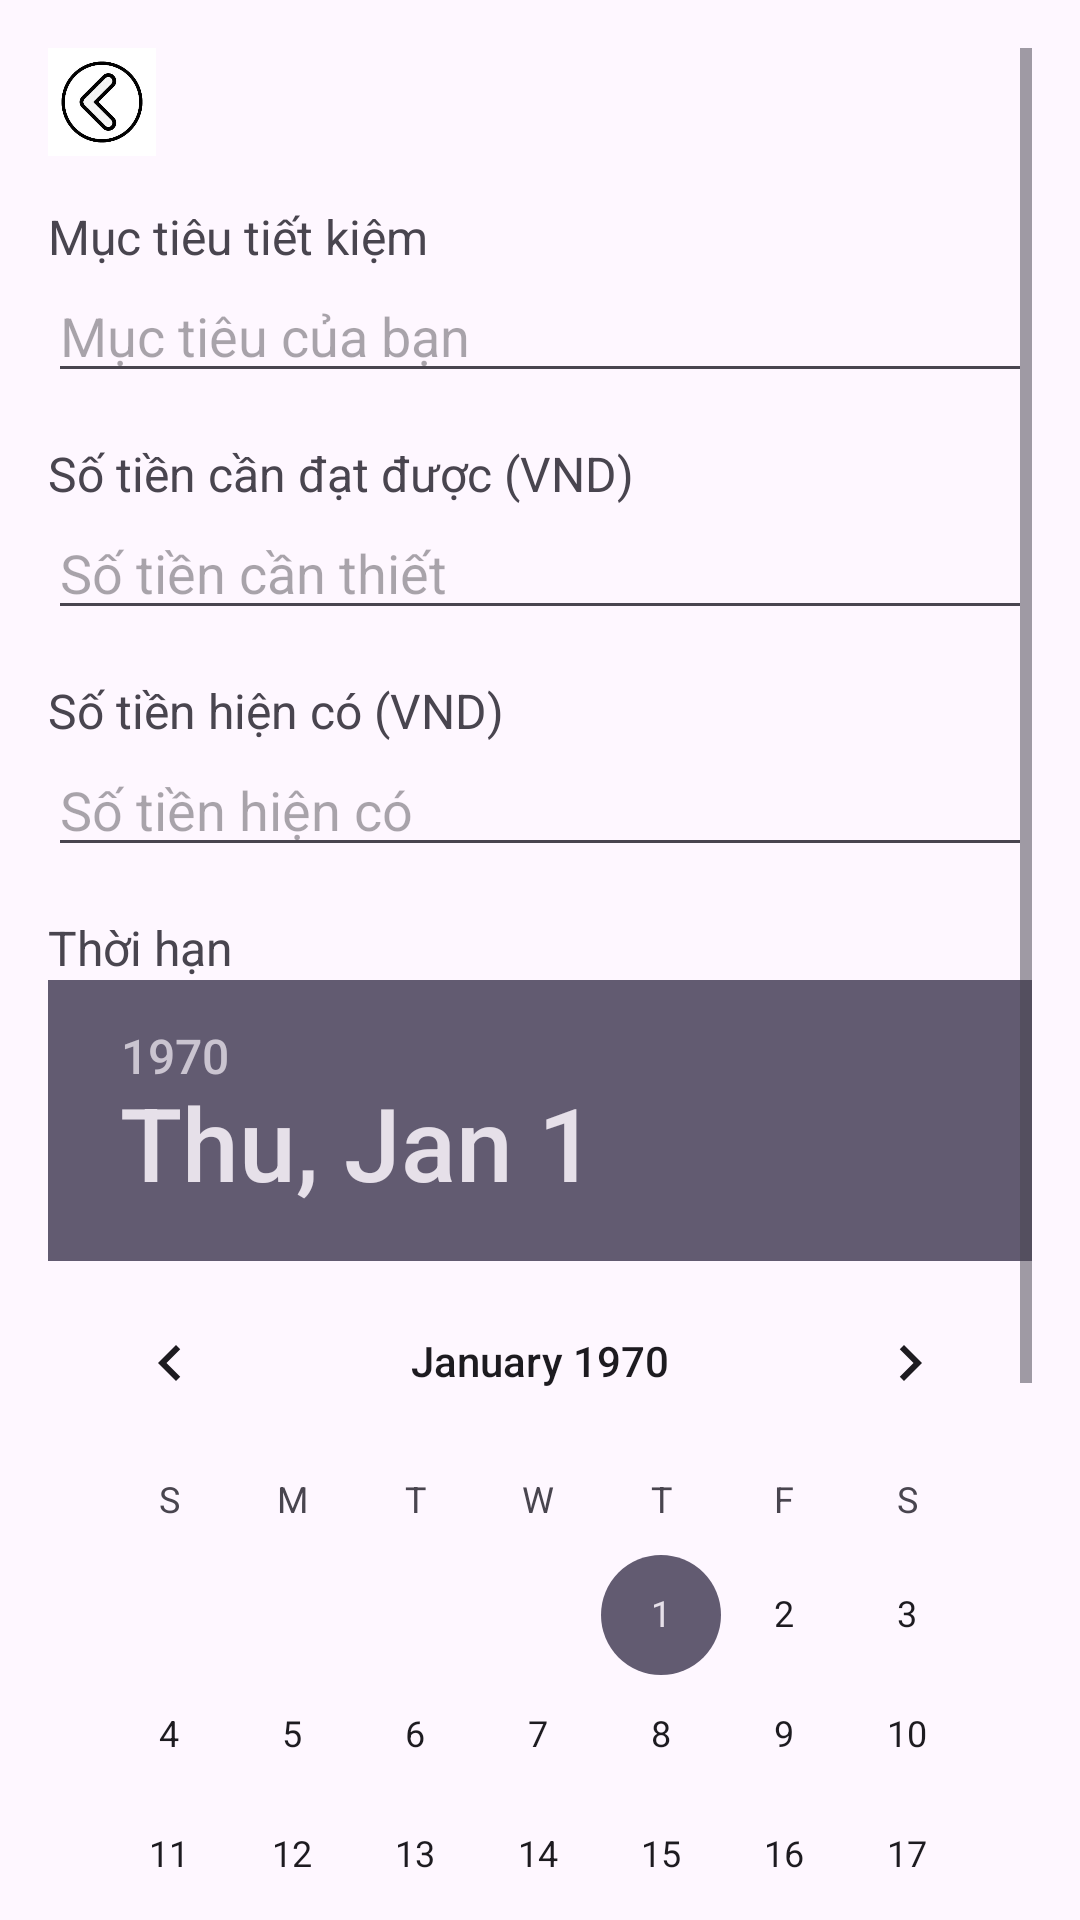

Screen size 1080px x 1920px. Icon name, then its box in pixels as (x1=x1, y1=y1, x2=x2, y2=y2):
Quay lại: (x1=61, y1=61, x2=143, y2=143)
